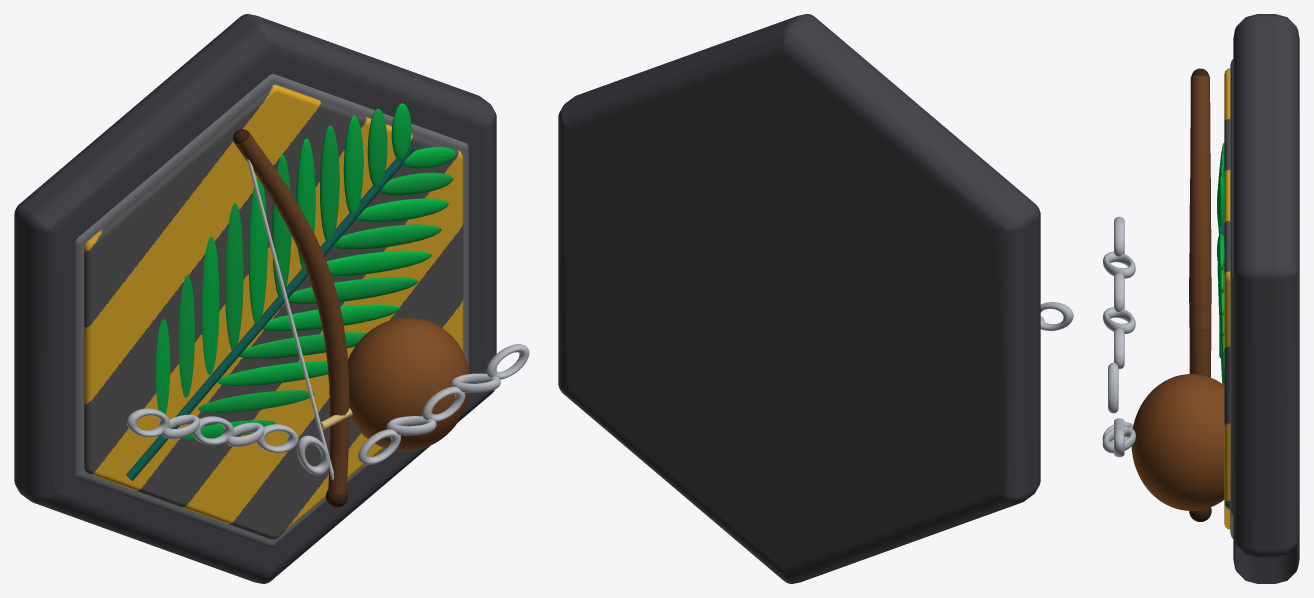
The model's file is cordao-03-fugitivo.glb.
3 views of the same model, side by side, from view 1: azimuth 30°, elevation 25°; view 2: azimuth 150°, elevation 25°; view 3: azimuth 270°, elevation 25° (orthographic).
Visible parts, largest first — view 1: Brasao 03 Fugitivo; view 2: Brasao 03 Fugitivo; view 3: Brasao 03 Fugitivo.
Boxes of the visible parts, <box> form: Brasao 03 Fugitivo: <box>14,14,529,583</box>; Brasao 03 Fugitivo: <box>558,14,1073,583</box>; Brasao 03 Fugitivo: <box>1102,14,1299,583</box>.
Bounding box in the file's own units: 0.866 × 0.9924 × 0.3124.
Materials: 12 (1 with a texture image).
